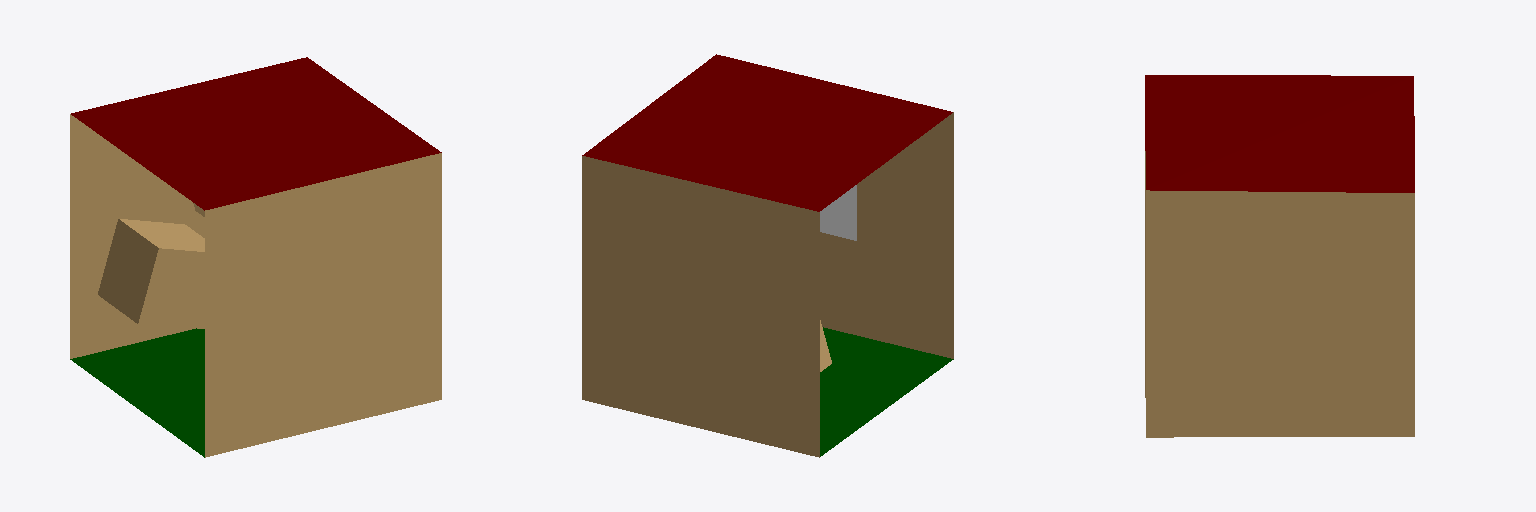
Rendered from cornell.obj.
The picture shows the model from 3 angles: view 1: azimuth 30°, elevation 25°; view 2: azimuth 150°, elevation 25°; view 3: azimuth 270°, elevation 25°; orthographic projection.
Visible parts, largest first — view 1: ceiling, left_wall, floor, short_box, right_wall; view 2: floor, left_wall, ceiling, right_wall, area_light; view 3: back_wall, left_wall.
Boxes of the visible parts, x1,y1,x2,y2 form: ceiling: [205, 153, 441, 457]; left_wall: [71, 57, 441, 210]; floor: [70, 114, 204, 358]; short_box: [98, 219, 204, 328]; right_wall: [70, 328, 204, 457]; floor: [582, 156, 819, 457]; left_wall: [582, 54, 952, 211]; ceiling: [820, 112, 953, 358]; right_wall: [820, 327, 953, 456]; area_light: [820, 185, 856, 240]; back_wall: [1146, 190, 1414, 437]; left_wall: [1145, 75, 1414, 192].
Bounding box in the file's own units: 5.6 × 5.56 × 5.49.